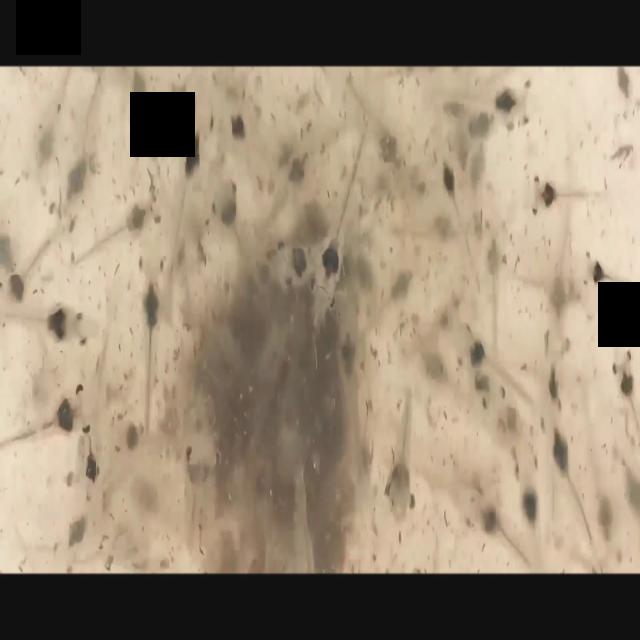shrimp3: (298, 118, 380, 351), (532, 388, 602, 560), (65, 179, 171, 279), (167, 92, 222, 270), (456, 471, 545, 575), (0, 373, 92, 473), (450, 314, 537, 418), (431, 133, 482, 293), (378, 370, 422, 540), (136, 247, 168, 438), (435, 73, 541, 130), (1, 298, 95, 355), (577, 240, 640, 314), (526, 166, 604, 224)
